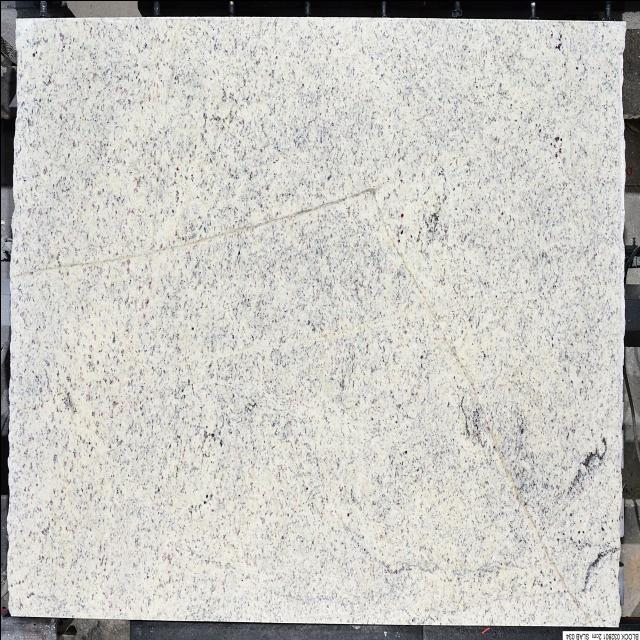chapa: (8, 16, 625, 625)
